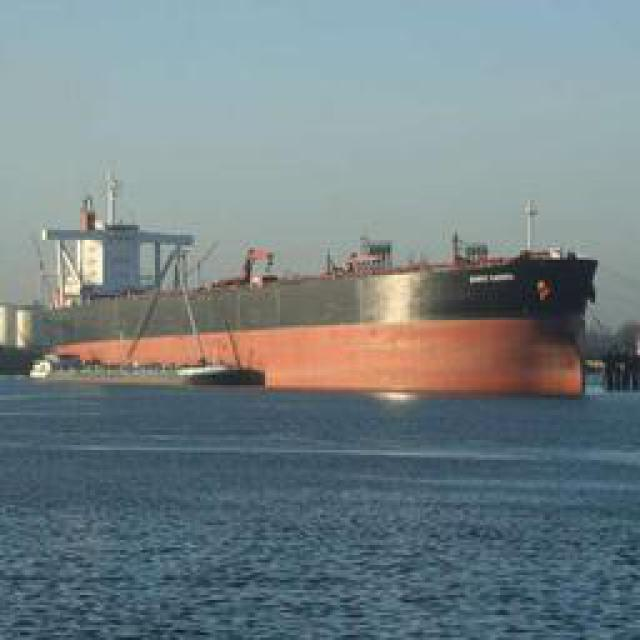Ship: (25, 225, 613, 400)
